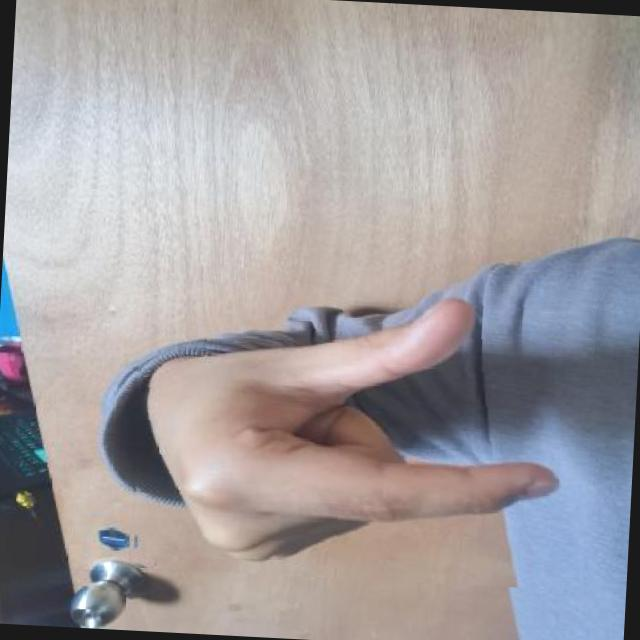G: (125, 268, 598, 592)
